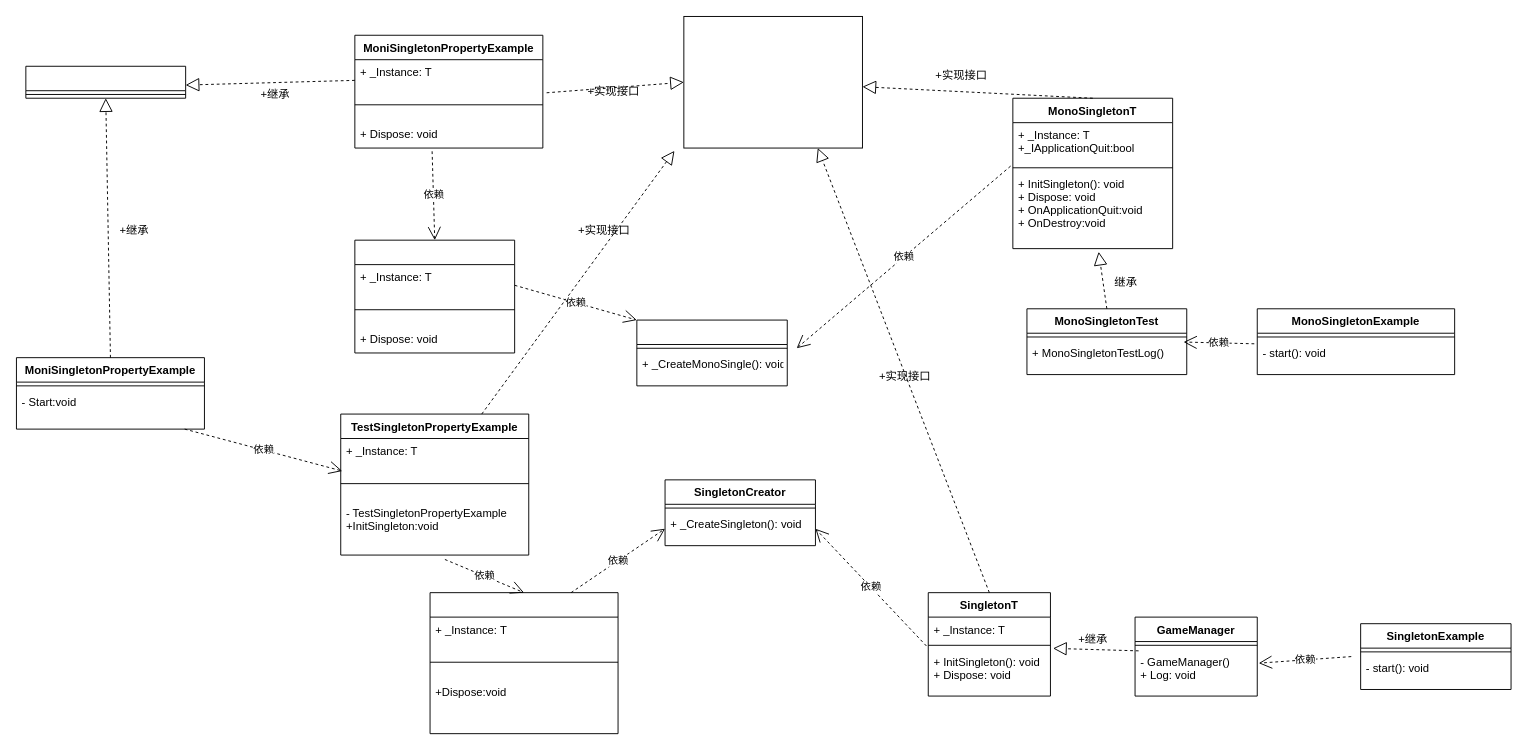
Some shapes in this 1528 by 753 pixel diagram are drawn without their labels. The shapes that lost their labels are listed below. From the top down, each one's box as (x1, y1, x2, y2) in pixels, then its label:
(25, 65, 186, 98): MonoBehaviour
(683, 16, 862, 148): <<ISingleton>> Interface + InitSingleton(): void
(354, 239, 515, 353): MonoSingletonProperty
(636, 319, 787, 386): MonoSingletonCreator
(429, 592, 618, 734): SingletonProperty
